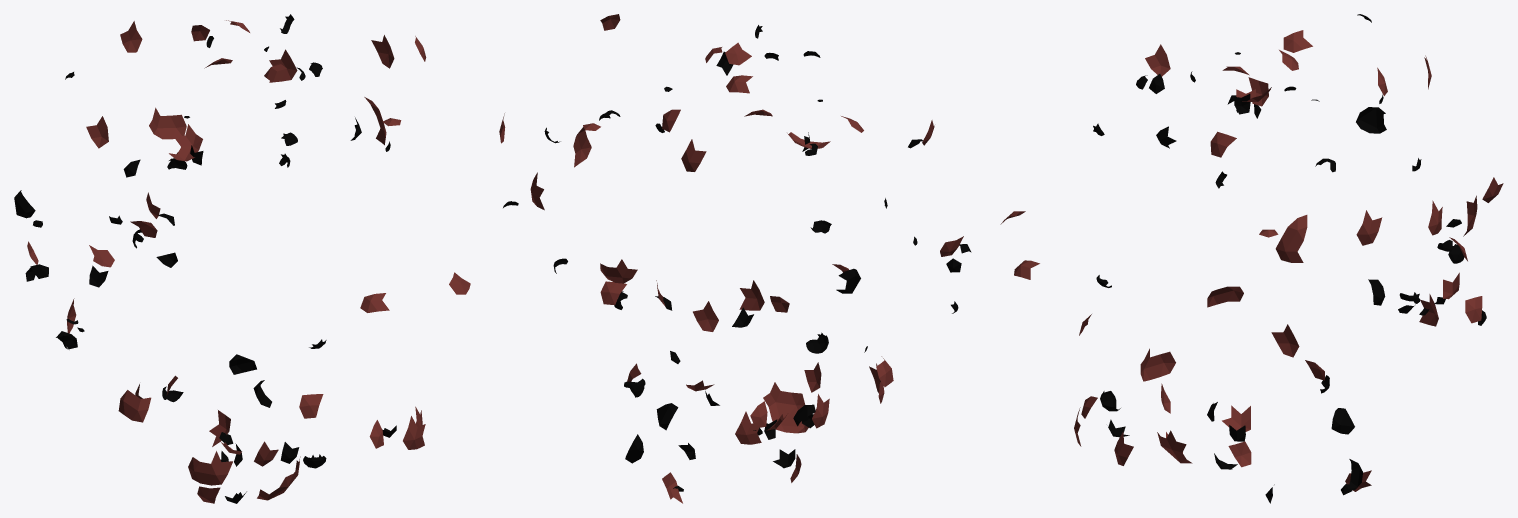
The model's file is explode.f0016.glb.
3 renders of one model, left to right at view 1: azimuth 30°, elevation 25°; view 2: azimuth 150°, elevation 25°; view 3: azimuth 270°, elevation 25°, orthographic. The views are drawn at different scales.
Parts seen in each view (by area): view 1: Body.001; view 2: Body.001; view 3: Body.001.
Boxes of the visible parts, left/top/right/bottom form: Body.001: left=14, top=14, right=470, bottom=503; Body.001: left=499, top=14, right=971, bottom=503; Body.001: left=1000, top=14, right=1503, bottom=503.
Size of the model in its own units: 12.42 by 12.78 by 12.76.
Materials: 1 (1 with a texture image).
